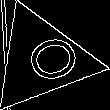O_W: (8, 30, 76, 89)
